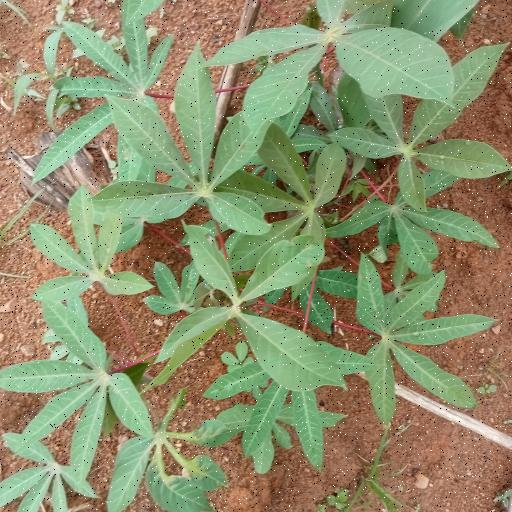Cassava_Mosaic: (98, 66, 280, 240), (0, 299, 153, 484), (356, 246, 500, 418)
